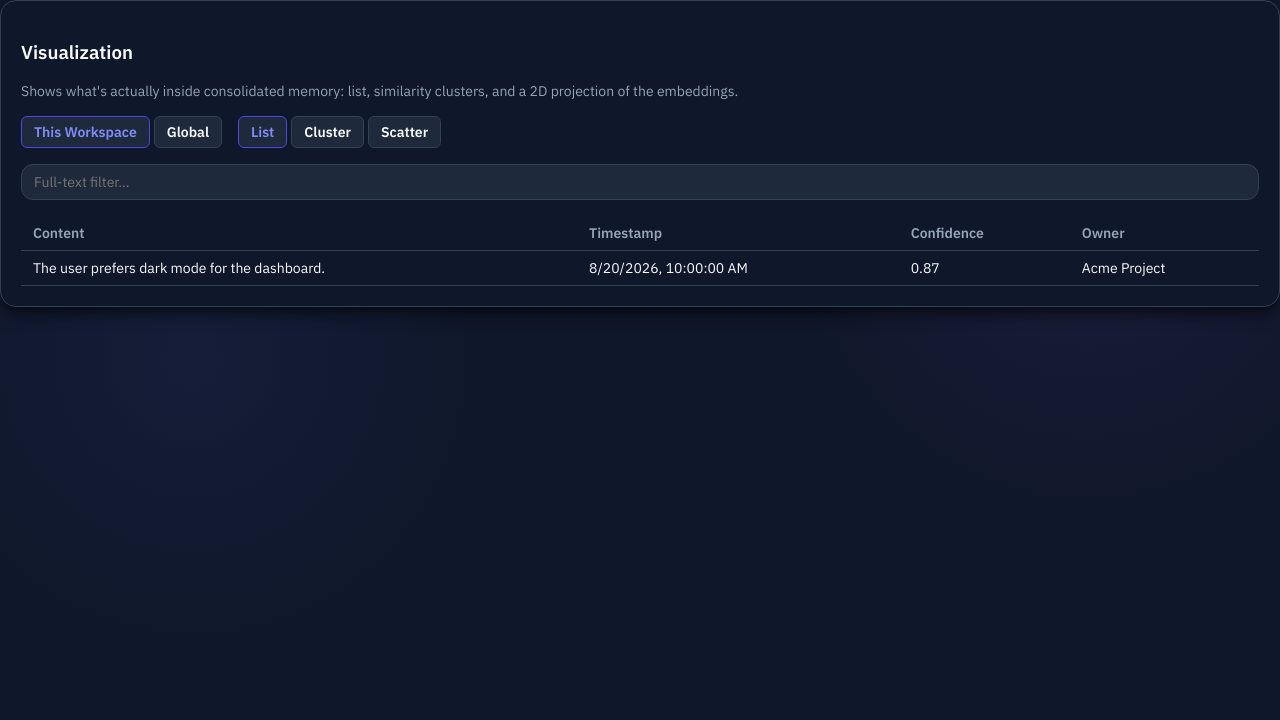
Scenario: MemoryVisualizationSection › shows the sampled and excluded-no-embedding notices when the API reports them
Check: the row with test id "memory-viz-row-entry-1" is shown, box [21,251,1259,286]
Click the button with test id "memory-viz-view-scatter": (405, 132) [368,116,441,148]
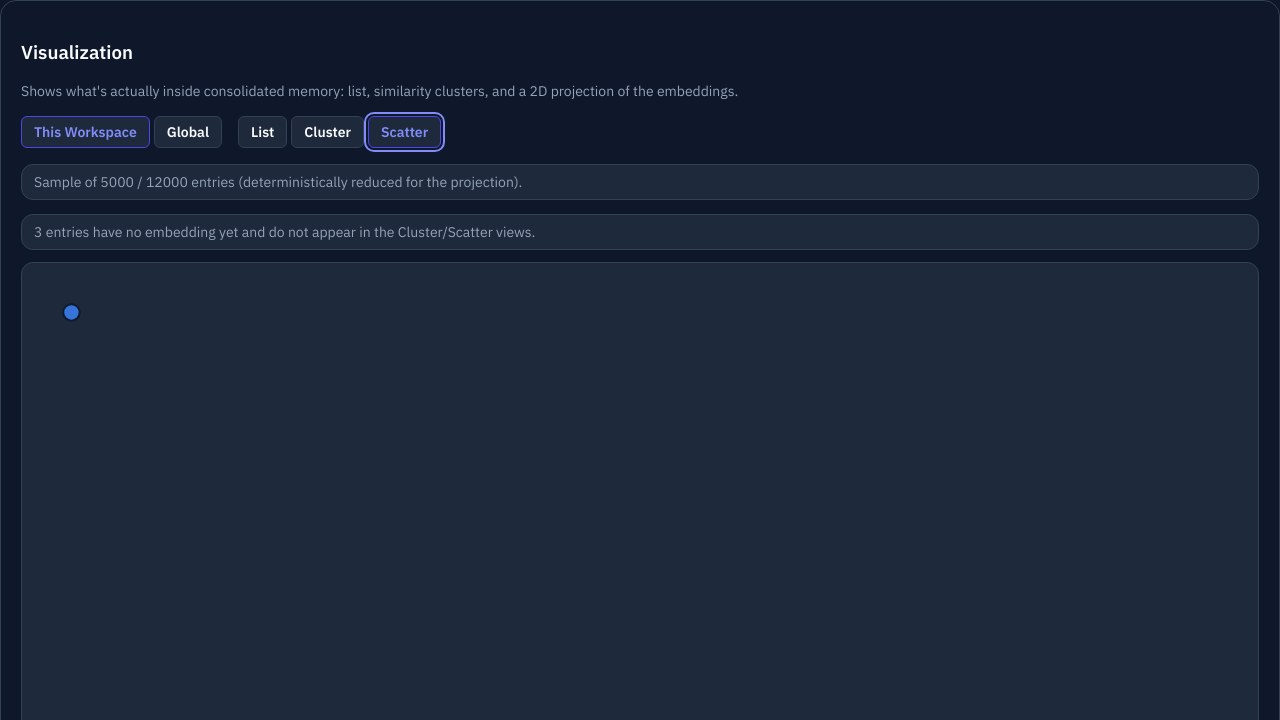
Check: the text with test id "memory-viz-sampled-notice" shows "5000", box [34,173,522,191]
Check: the text with test id "memory-viz-sampled-notice" shows "12000", box [34,173,522,191]
Check: the text with test id "memory-viz-excluded-notice" shows "3", box [34,223,535,241]
